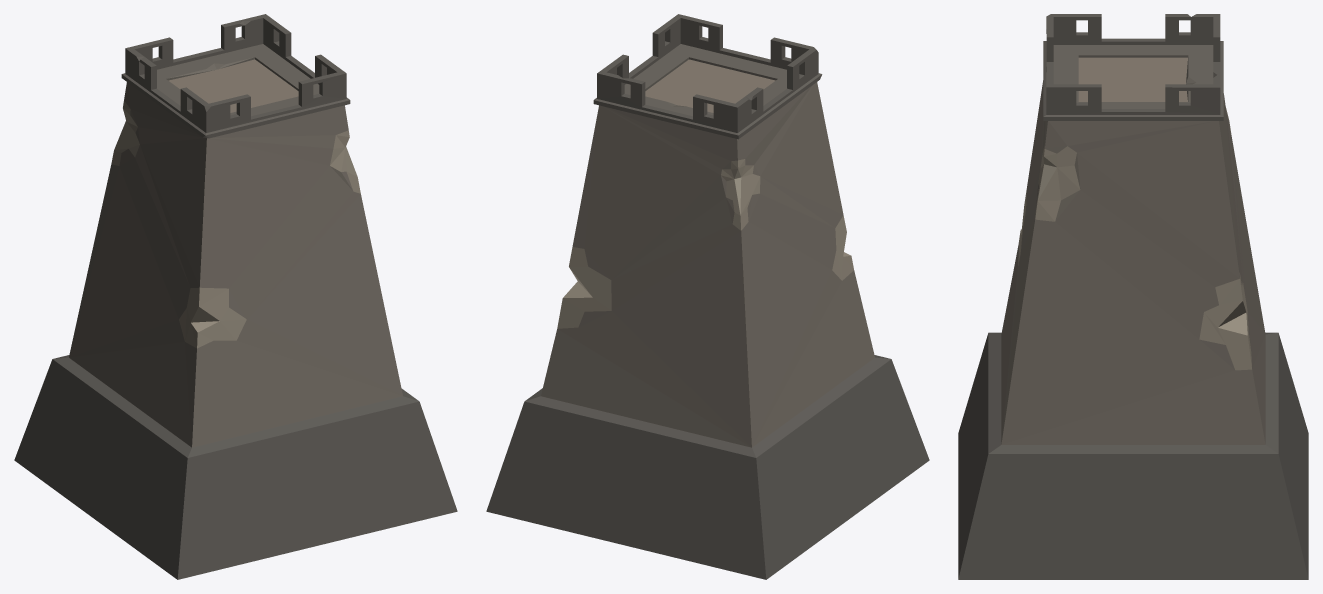
Rendered from SM_Bld_Fort_Tower_01.glb.
3 renders of one model, left to right at view 1: azimuth 30°, elevation 25°; view 2: azimuth 150°, elevation 25°; view 3: azimuth 270°, elevation 25°, orthographic. The views are drawn at different scales.
Visible parts, largest first — view 1: SM_Bld_Fort_Tower_01_part00; view 2: SM_Bld_Fort_Tower_01_part00; view 3: SM_Bld_Fort_Tower_01_part00.
Part boxes in pixels (x1,y1,x2,y2): SM_Bld_Fort_Tower_01_part00: (14, 14, 457, 579); SM_Bld_Fort_Tower_01_part00: (486, 14, 929, 579); SM_Bld_Fort_Tower_01_part00: (958, 14, 1308, 579).
Size of the model in its own units: 13.98 by 20.28 by 14.13.
Materials: 1 (1 with a texture image).
